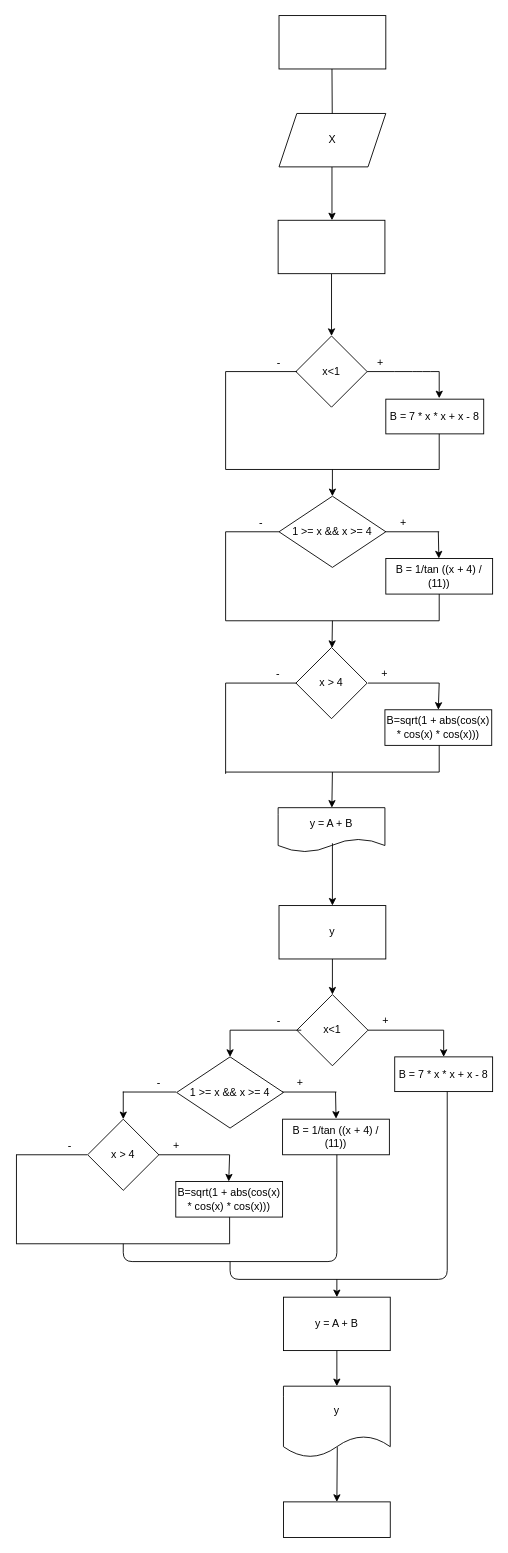
Image size: 508x1553. Some labels were removed from this diagram. Each missing label, with the box of its shape:
A=(1/abs(x+2))+1: (277, 219, 385, 274)
кінець: (283, 1501, 390, 1537)
Початок: (278, 15, 386, 69)
